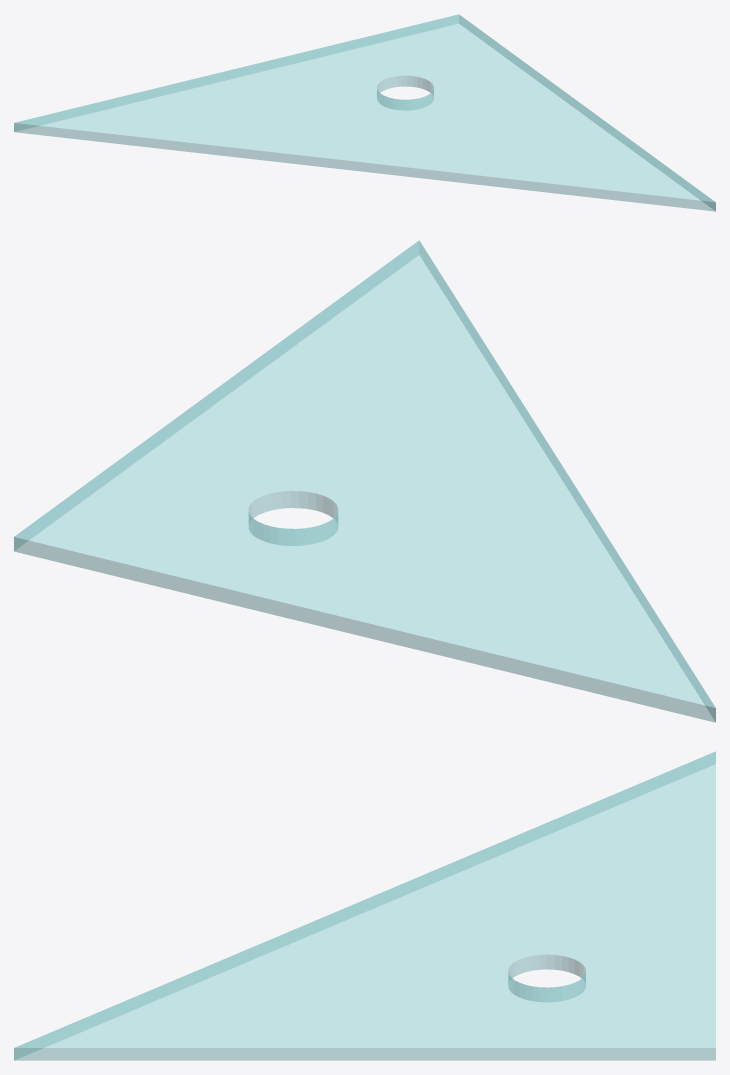
File: SetSquare.fbx
3 renders of one model, top to bottom at view 1: azimuth 30°, elevation 25°; view 2: azimuth 150°, elevation 25°; view 3: azimuth 270°, elevation 25°, orthographic. The views are drawn at different scales.
Visible parts, largest first — view 1: Cube; view 2: Cube; view 3: Cube.
Part boxes in pixels (x1,y1,x2,y2): Cube: (14, 14, 715, 211); Cube: (14, 240, 715, 722); Cube: (14, 751, 715, 1060).
Bounding box in the file's own units: 3194 × 74.68 × 3194.
